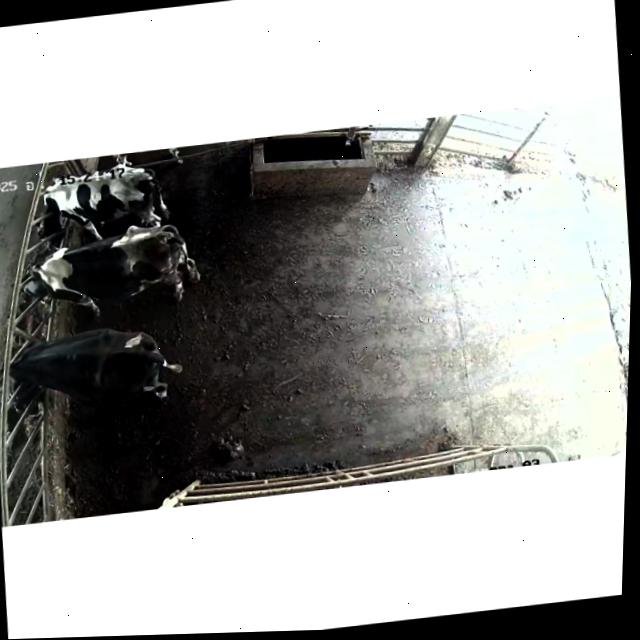eat: (1, 177, 93, 246), (0, 249, 92, 312), (0, 331, 70, 400)
